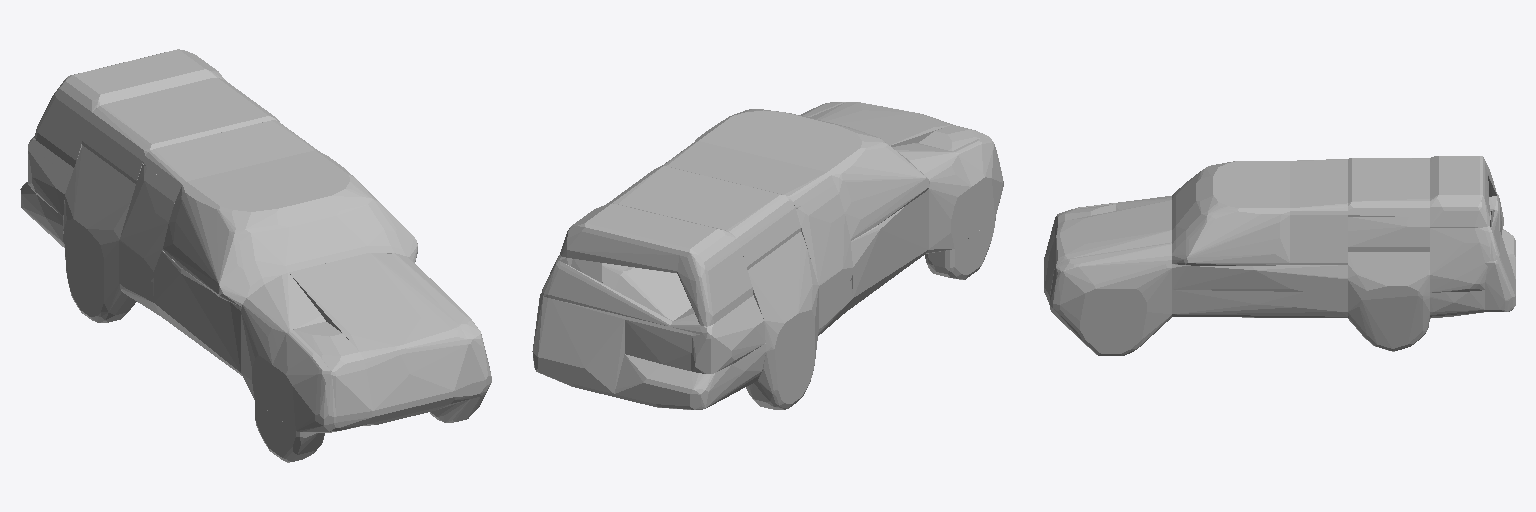
robot.urdf — root:
<robot name="root">
  <link name="link_001">
    <visual>
      <origin xyz="0 0 0" rpy="0 0 0"/>
      <geometry>
        <mesh filename="decomposed_008.obj" scale="1.0000E+00 1.0000E+00 1.0000E+00"/>
      </geometry>
      <material name="">
        <color rgba="7.50E-01 7.50E-01 7.50E-01 1"/>
      </material>
    </visual>
    <collision>
      <origin xyz="0 0 0" rpy="0 0 0"/>
      <geometry>
        <mesh filename="decomposed_008.obj" scale="1.0000E+00 1.0000E+00 1.0000E+00"/>
      </geometry>
    </collision>
  </link>
</robot>

--- Facts derived from the render (not from the file) ---
The picture shows the robot from 3 angles, left to right: view 1: azimuth 30°, elevation 25°; view 2: azimuth 150°, elevation 25°; view 3: azimuth 270°, elevation 25°; orthographic projection.
Model root with 1 links and 0 joints (none), rooted at link_001, posed every joint at zero.
Links seen in each view (by area): view 1: link_001; view 2: link_001; view 3: link_001.
Link boxes in pixels (x1,y1,x2,y2): link_001: (20,49,491,462); link_001: (532,102,1003,409); link_001: (1044,156,1515,355).
Size in the robot's own frame: 0.0554 by 0.1498 by 0.0521 metres.
Meshes: 1 distinct files referenced, 1 mesh visuals loaded (1 OBJ).